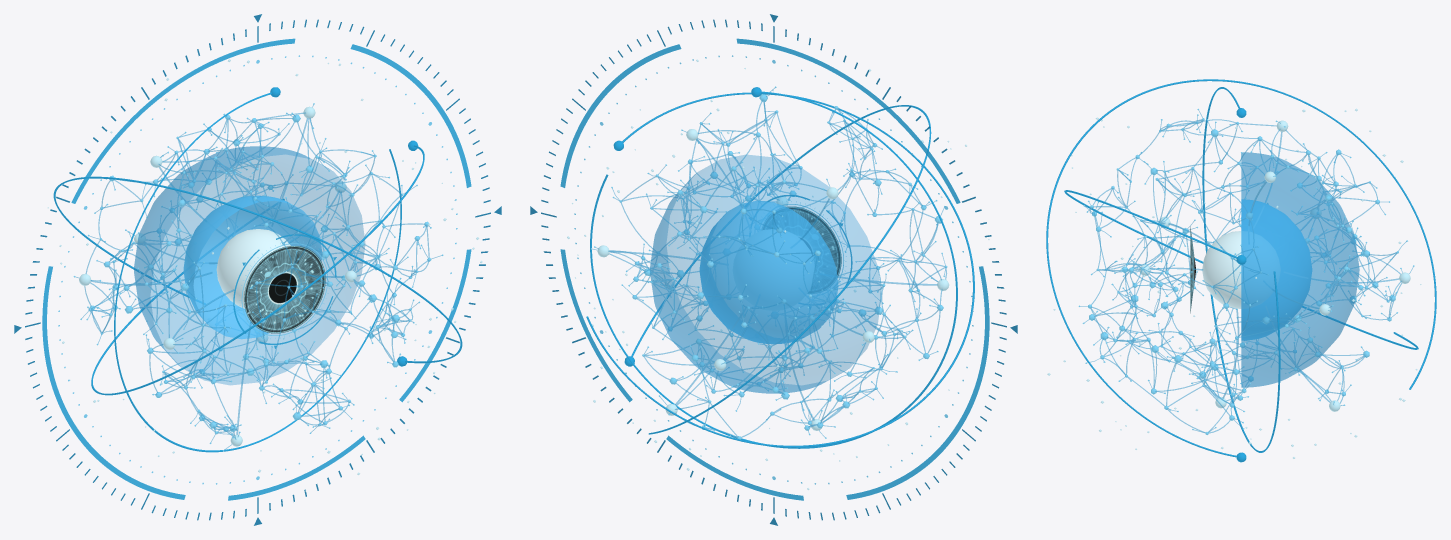
Rendered from imprint-echo.glb.
3 renders of one model, left to right at view 1: azimuth 30°, elevation 25°; view 2: azimuth 150°, elevation 25°; view 3: azimuth 270°, elevation 25°, orthographic. The views are drawn at different scales.
Visible parts, largest first — view 1: Echo_Bloom, Echo_Synapses, Echo_Glow, Echo_RingOuter, Echo_Iris, Echo_Neurons, Echo_Core, Echo_Ticks, Echo_OrbitC, Echo_OrbitB, Echo_OrbitA, Echo_Hubs (+1 smaller); view 2: Echo_Bloom, Echo_Synapses, Echo_Glow, Echo_RingOuter, Echo_Core, Echo_Neurons, Echo_Iris, Echo_OrbitA, Echo_OrbitC, Echo_Ticks, Echo_OrbitB, Echo_Hubs; view 3: Echo_Bloom, Echo_Synapses, Echo_Glow, Echo_Neurons, Echo_Core, Echo_OrbitB, Echo_OrbitC, Echo_OrbitA, Echo_Hubs.
Part boxes in pixels (x1,y1,x2,y2): Echo_Bloom: [134, 146, 365, 385]; Echo_Synapses: [75, 104, 441, 450]; Echo_Glow: [183, 195, 322, 339]; Echo_RingOuter: [42, 38, 471, 500]; Echo_Iris: [244, 246, 325, 333]; Echo_Neurons: [73, 103, 443, 451]; Echo_Core: [216, 229, 290, 308]; Echo_Ticks: [14, 14, 501, 525]; Echo_OrbitC: [114, 87, 401, 452]; Echo_OrbitB: [53, 176, 462, 366]; Echo_OrbitA: [91, 140, 424, 395]; Echo_Hubs: [79, 106, 356, 446]; Echo_Bloom: [650, 155, 880, 393]; Echo_Synapses: [592, 87, 946, 437]; Echo_Glow: [699, 200, 838, 344]; Echo_RingOuter: [560, 38, 989, 500]; Echo_Core: [733, 230, 813, 310]; Echo_Neurons: [590, 86, 947, 439]; Echo_Iris: [762, 206, 841, 293]; Echo_OrbitA: [586, 92, 974, 447]; Echo_OrbitC: [590, 87, 957, 448]; Echo_Ticks: [530, 14, 1017, 525]; Echo_OrbitB: [624, 105, 931, 434]; Echo_Hubs: [597, 129, 949, 430]; Echo_Bloom: [1241, 152, 1359, 387]; Echo_Synapses: [1080, 110, 1413, 433]; Echo_Glow: [1241, 199, 1312, 340]; Echo_Neurons: [1078, 108, 1414, 434]; Echo_Core: [1202, 231, 1279, 308]; Echo_OrbitB: [1046, 79, 1436, 462]; Echo_OrbitC: [1202, 87, 1280, 452]; Echo_OrbitA: [1064, 190, 1418, 349]; Echo_Hubs: [1139, 120, 1410, 411].
Bounding box in the file's own units: 2.72 × 2.72 × 1.98.
16 materials, 1 textured.
